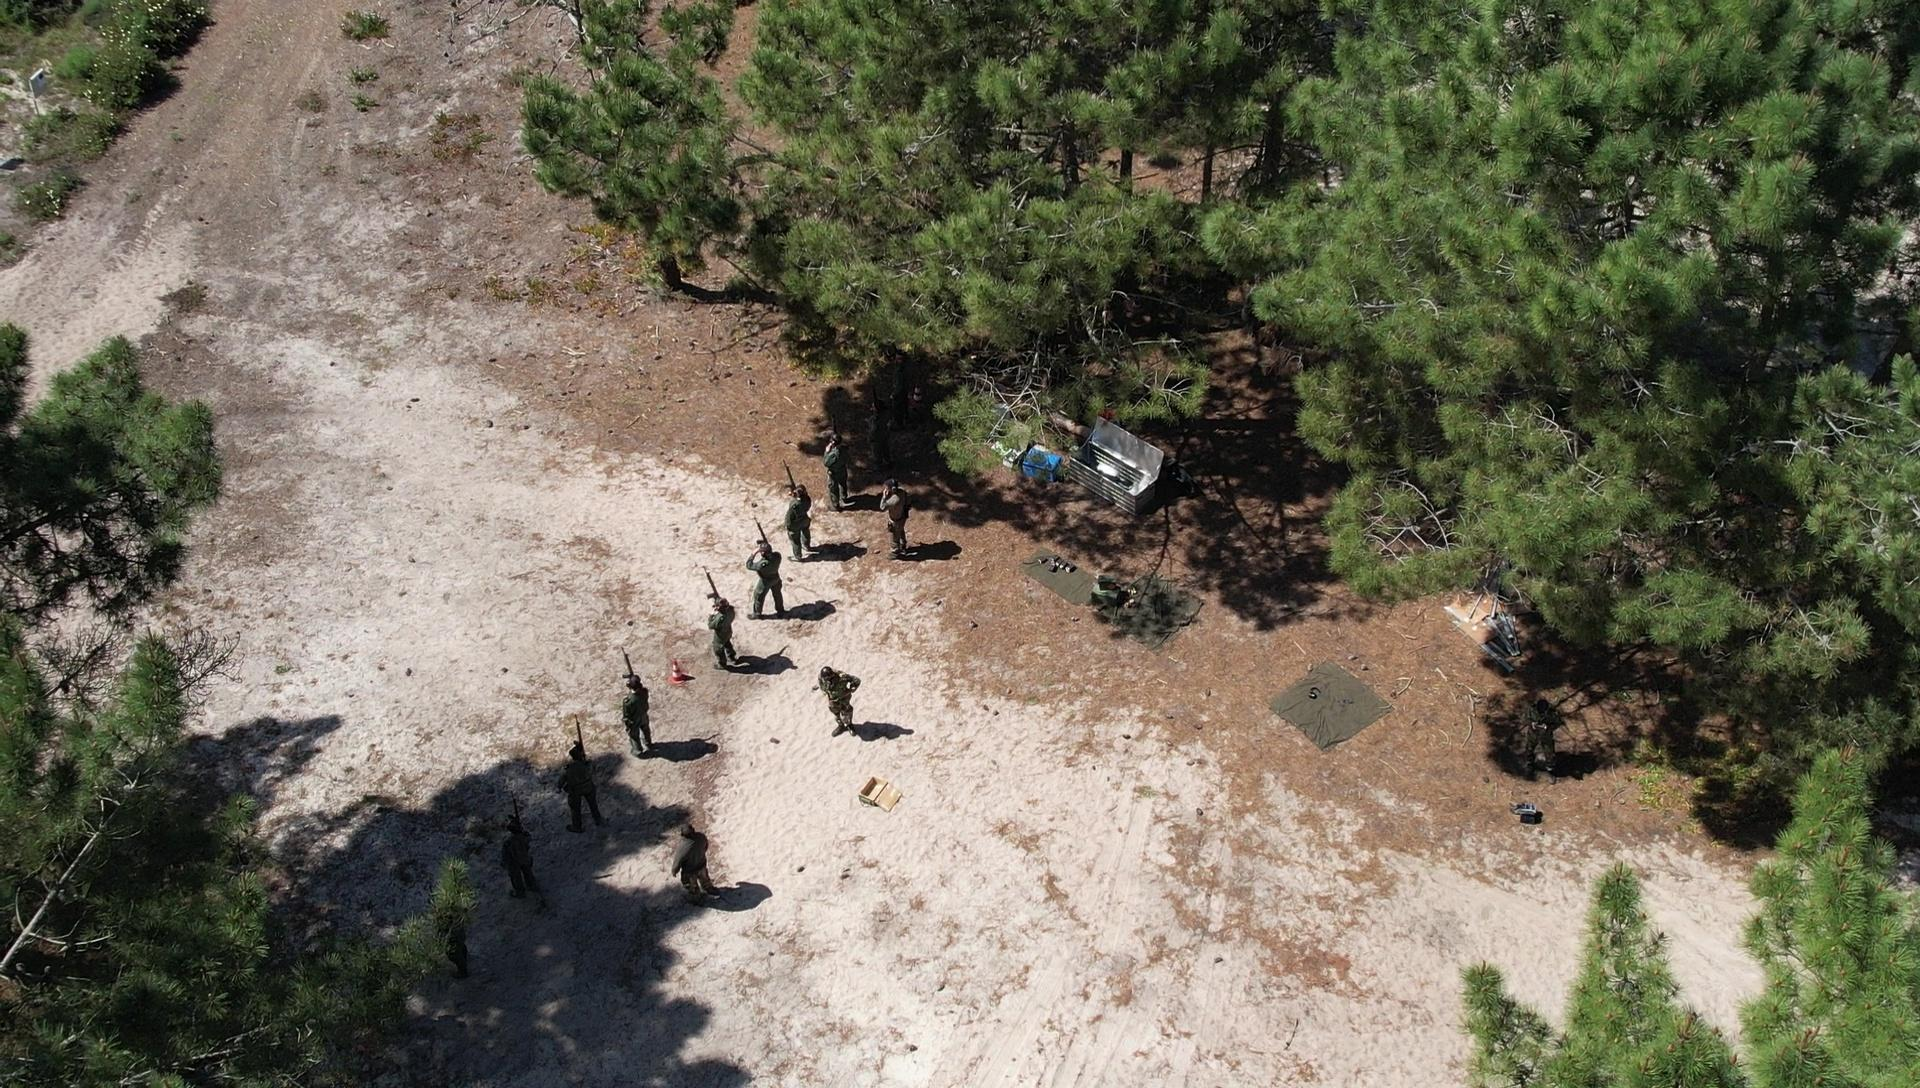Soldier: (485, 789, 550, 921), (611, 651, 663, 773), (698, 568, 750, 690), (554, 717, 603, 841), (742, 520, 790, 637), (666, 822, 723, 909), (816, 649, 866, 746), (778, 444, 818, 564), (872, 471, 920, 564), (1513, 690, 1557, 786), (433, 918, 484, 1000), (864, 390, 899, 475), (822, 429, 856, 516)
